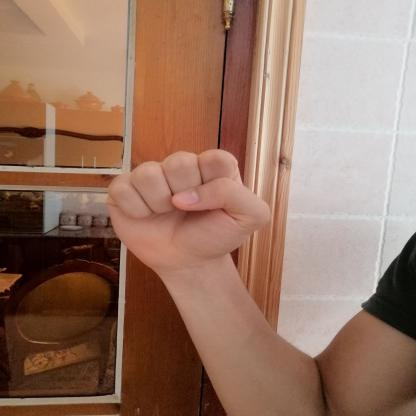SAD: (87, 139, 281, 285)
